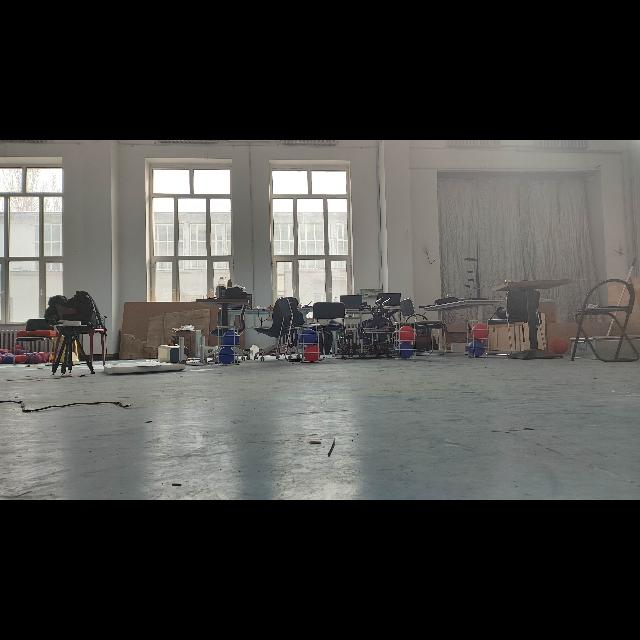B: (220, 330, 240, 348), (218, 346, 236, 364), (300, 328, 316, 346), (396, 343, 414, 359), (468, 339, 484, 356)
R: (303, 344, 321, 362), (398, 326, 416, 342), (472, 324, 488, 341)
S: (214, 324, 242, 368), (297, 322, 325, 366), (464, 318, 492, 360), (392, 320, 418, 362)
